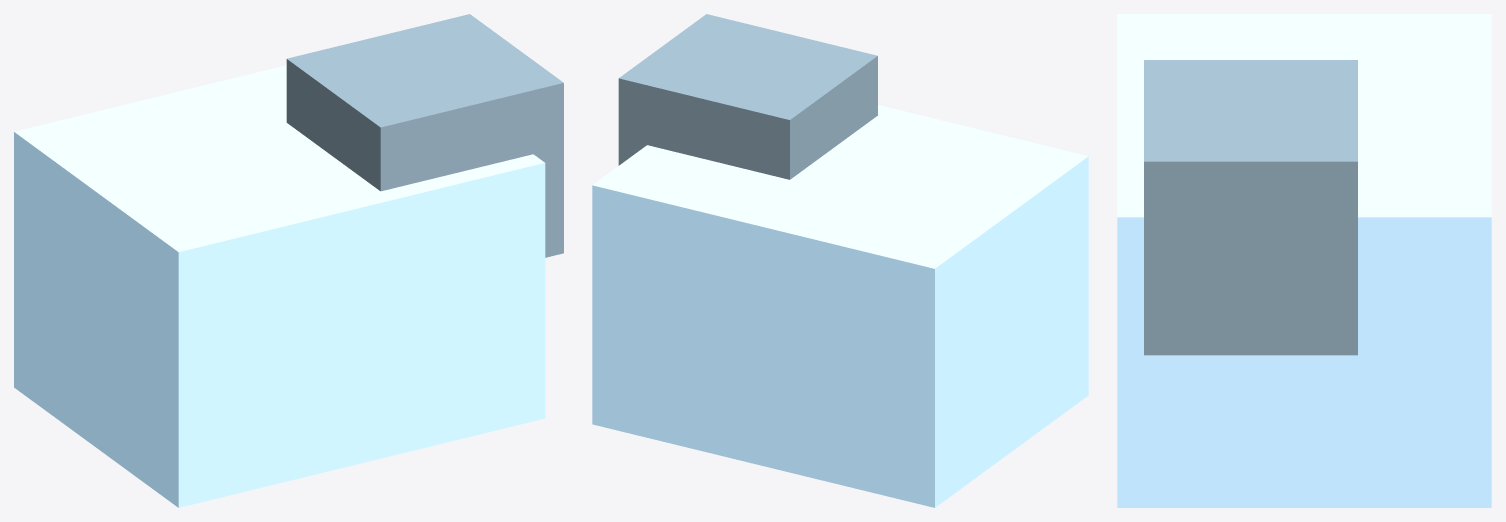
File: built-ice-chunk.glb
3 renders of one model, left to right at view 1: azimuth 30°, elevation 25°; view 2: azimuth 150°, elevation 25°; view 3: azimuth 270°, elevation 25°, orthographic. The views are drawn at different scales.
Visible parts, largest first — view 1: built-ice-chunk; view 2: built-ice-chunk; view 3: built-ice-chunk.
Boxes of the visible parts, x1,y1,x2,y2 form: built-ice-chunk: (14, 14, 563, 507); built-ice-chunk: (592, 14, 1088, 507); built-ice-chunk: (1117, 14, 1491, 507).
Bounding box in the file's own units: 0.39 × 0.3 × 0.28.
